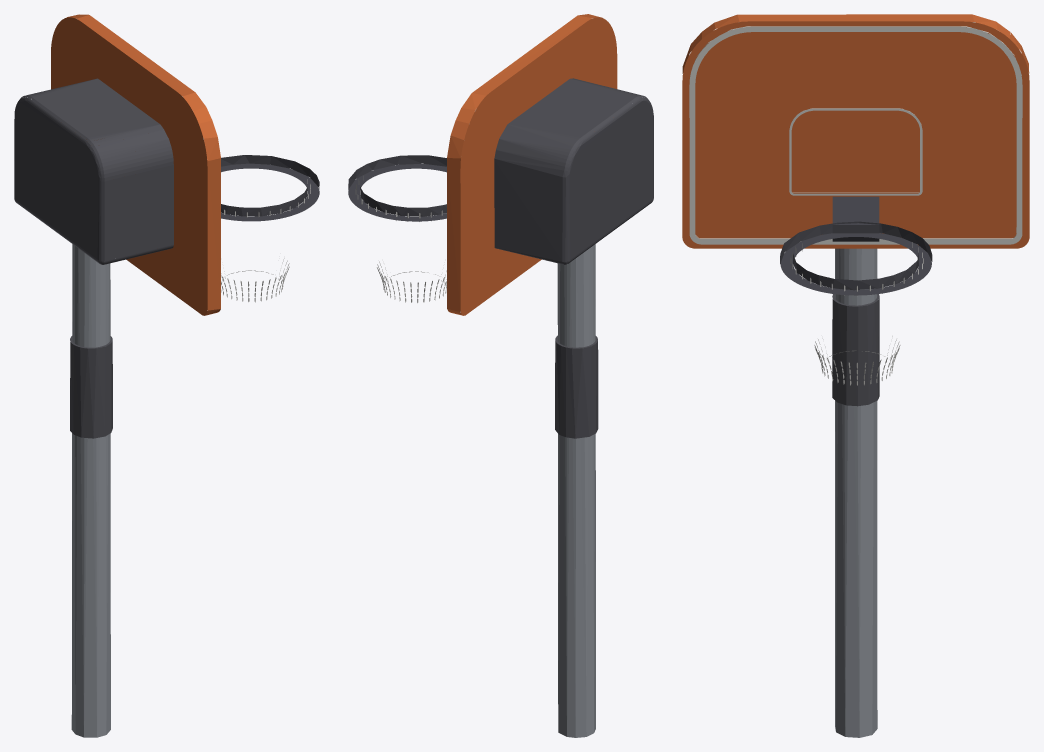
File: canasta.glb
The picture shows the model from 3 angles, left to right: view 1: azimuth 30°, elevation 25°; view 2: azimuth 150°, elevation 25°; view 3: azimuth 270°, elevation 25°; orthographic projection. The views are drawn at different scales.
Visible parts, largest first — view 1: aro, red; view 2: aro, red; view 3: aro, red.
Boxes of the visible parts, x1,y1,x2,y2 form: aro: (14, 14, 319, 737); red: (221, 179, 310, 302); aro: (348, 14, 653, 737); red: (355, 176, 446, 302); aro: (682, 14, 1029, 737); red: (790, 242, 923, 385).
Bounding box in the file's own units: 4.3 × 10.71 × 4.58.
